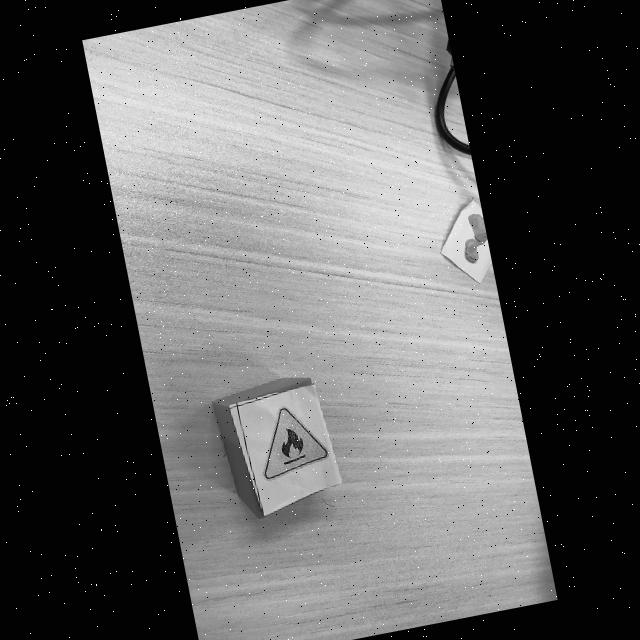Fire: (264, 407, 328, 480)
